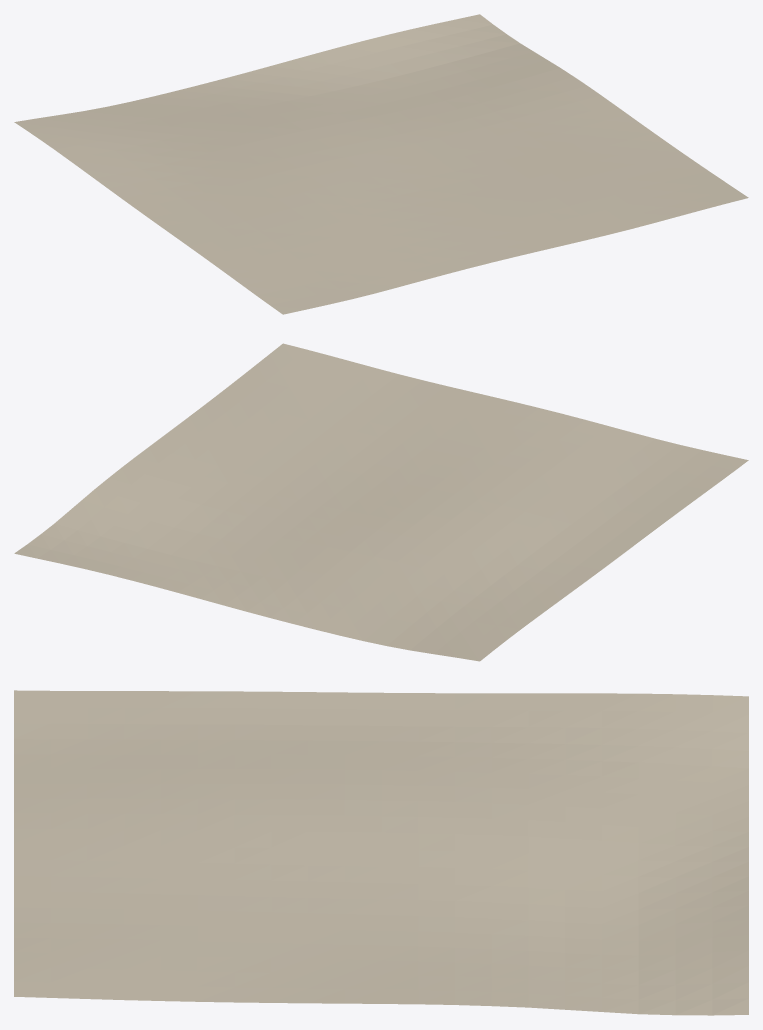
File: bolak_-30_2.glb
3 views of the same model, one above another, from view 1: azimuth 30°, elevation 25°; view 2: azimuth 150°, elevation 25°; view 3: azimuth 270°, elevation 25° (orthographic). The views are drawn at different scales.
Parts seen in each view (by area): view 1: Yer_Tuproq-col; view 2: Yer_Tuproq-col; view 3: Yer_Tuproq-col.
Part boxes in pixels (x1,y1,x2,y2): Yer_Tuproq-col: (14, 14, 748, 314); Yer_Tuproq-col: (14, 343, 748, 661); Yer_Tuproq-col: (14, 690, 748, 1015).
Size of the model in its own units: 400 by 12.95 by 400.
